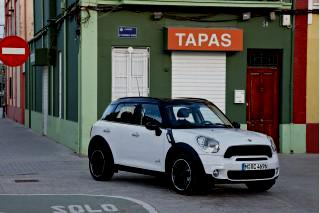mini: (241, 134, 258, 148)
